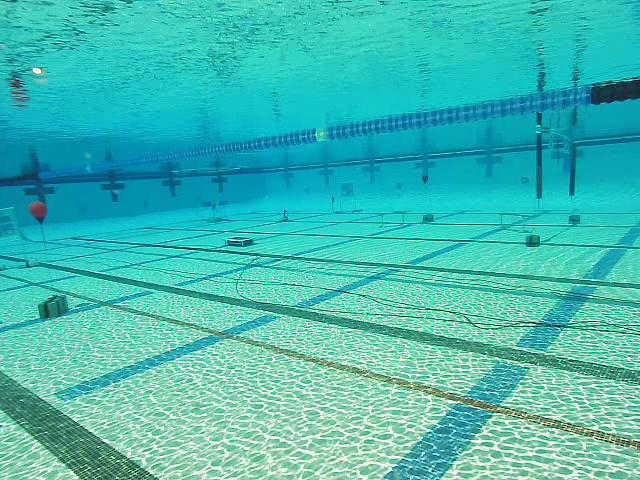buoy: (29, 201, 50, 226)
dropper: (223, 234, 256, 247)
gate_leg_l: (535, 130, 543, 199)
gate_leg_r: (569, 144, 577, 197)
table: (199, 198, 230, 224)
torpedo: (0, 202, 24, 248), (338, 178, 358, 200)
